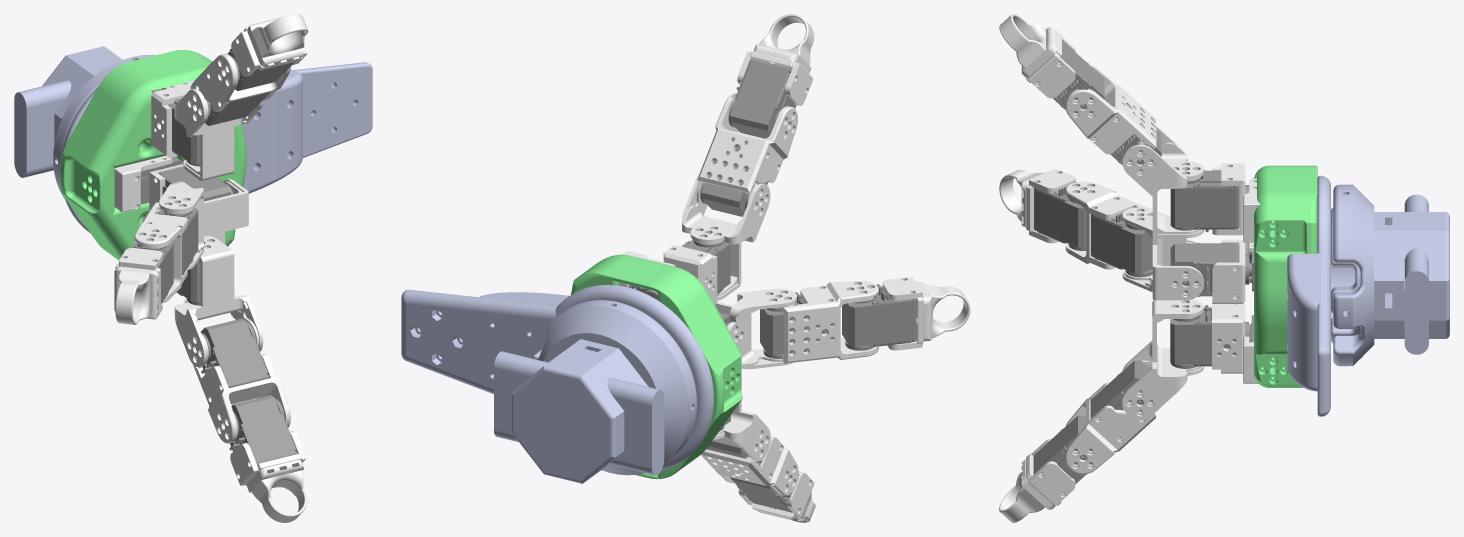
File: dexremo_controller.glb
3 renders of one model, left to right at view 1: azimuth 30°, elevation 25°; view 2: azimuth 150°, elevation 25°; view 3: azimuth 270°, elevation 25°, orthographic.
Parts seen in each view (by area): view 1: hand-base-1, motor_driver2-1, support2-1-4, holder-1, support2-1-5, support2-1-1, STS3215_03a.step-14, support3-4, STS3215_03a.step-15, finger-v4-1, finger-v4-2, support3-5 (+18 smaller); view 2: motor_driver2-1, connector-1, falan3-2, hand-base-1, holder-1, support3-5, support3-1, support2-1-5, STS3215_03a.step-3, STS3215_03a.step-19, support3-4, support2-1-1 (+11 smaller); view 3: hand-base-1, connector-1, motor_driver2-1, falan3-2, support3-5, support2-1-4, support2-1-5, support3-4, STS3215_03a.step-17, support2-1-1, STS3215_03a.step-2, holder-1 (+20 smaller).
Boxes of the visible parts, x1,y1,x2,y2 form: hand-base-1: (60, 50, 246, 260); motor_driver2-1: (60, 62, 372, 232); support2-1-4: (174, 235, 263, 367); holder-1: (14, 80, 71, 177); support2-1-5: (174, 89, 262, 180); support2-1-1: (159, 179, 248, 269); STS3215_03a.step-14: (195, 318, 269, 387); support3-4: (193, 354, 290, 443); STS3215_03a.step-15: (229, 395, 297, 464); finger-v4-1: (247, 14, 308, 67); finger-v4-2: (114, 266, 159, 324); support3-5: (190, 53, 291, 112); motor_driver2-1: (401, 284, 713, 470); connector-1: (511, 339, 648, 483); falan3-2: (532, 300, 696, 475); hand-base-1: (571, 254, 742, 479); holder-1: (494, 351, 664, 475); support3-5: (697, 93, 797, 194); support3-1: (783, 281, 878, 363); support2-1-5: (682, 174, 770, 300); STS3215_03a.step-3: (842, 284, 916, 350); STS3215_03a.step-19: (728, 59, 796, 138); support3-4: (701, 436, 798, 495); support2-1-1: (715, 288, 796, 369); hand-base-1: (1254, 165, 1317, 387); connector-1: (1374, 212, 1449, 338); motor_driver2-1: (1287, 175, 1330, 416); falan3-2: (1333, 184, 1374, 366); support3-5: (1065, 63, 1156, 154); support2-1-4: (1122, 299, 1203, 419); support2-1-5: (1122, 125, 1204, 238); support3-4: (1065, 382, 1155, 474); STS3215_03a.step-17: (1170, 170, 1239, 232); support2-1-1: (1122, 207, 1204, 300); STS3215_03a.step-2: (1091, 212, 1152, 277); holder-1: (1404, 194, 1428, 354).
Bounding box in the file's own units: 0.3129 × 0.3678 × 0.2979.
